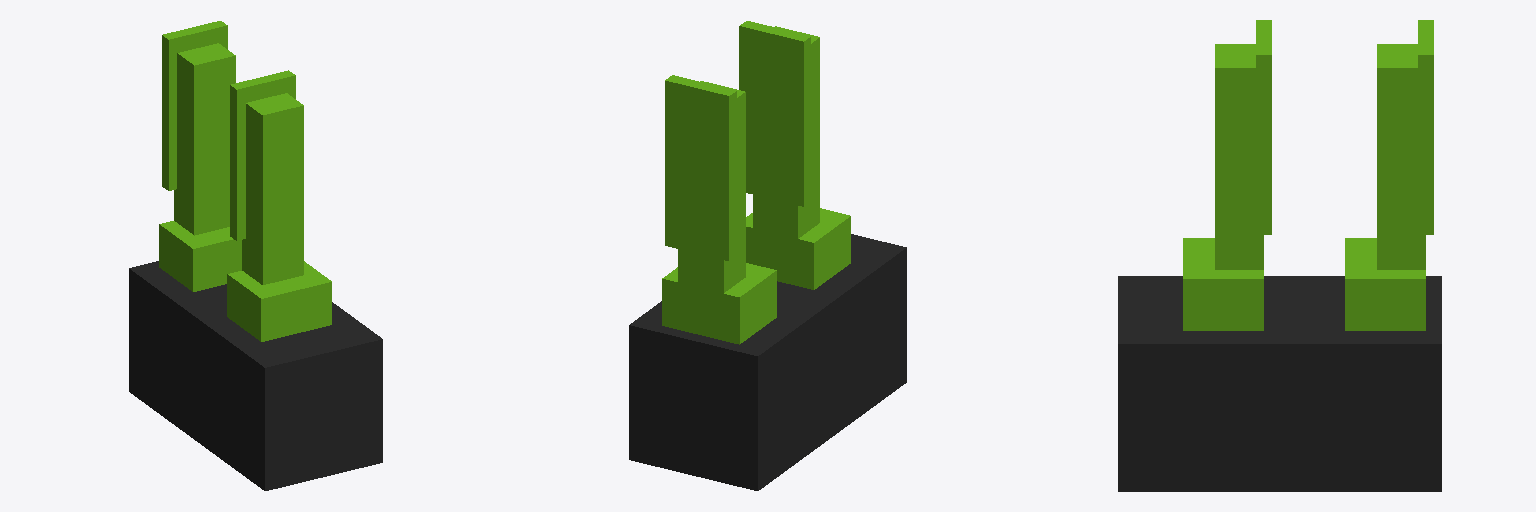
URDF robot description (enpire_robotiq_gripper):
<?xml version="1.0" encoding="utf-8"?>
<robot name="enpire_robotiq_gripper">
  <!-- Gripper Base -->
  <link name="gripper_base_link">
    <inertial>
      <origin xyz="0 0 0.02" rpy="0 0 0"/>
      <mass value="0.25"/>
      <inertia ixx="0.0002" ixy="0" ixz="0" iyy="0.0002" iyz="0" izz="0.0001"/>
    </inertial>
    <visual>
      <origin xyz="0 0 0.02" rpy="0 0 0"/>
      <geometry>
        <box size="0.04 0.08 0.04"/>
      </geometry>
      <material name="dark_gray">
        <color rgba="0.2 0.2 0.2 1.0"/>
      </material>
    </visual>
    <collision>
      <origin xyz="0 0 0.02" rpy="0 0 0"/>
      <geometry>
        <box size="0.04 0.08 0.04"/>
      </geometry>
    </collision>
  </link>

  <!-- Left Finger Joint -->
  <joint name="left_finger_joint" type="prismatic">
    <origin xyz="0 0.02 0.04" rpy="0 0 0"/>
    <parent link="gripper_base_link"/>
    <child link="left_finger_link"/>
    <axis xyz="0 1 0"/>
    <limit lower="0.0" upper="0.0425" effort="50" velocity="0.2"/>
    <dynamics damping="1.0" friction="0.1"/>
  </joint>

  <!-- Left Finger Link -->
  <link name="left_finger_link">
    <inertial>
      <origin xyz="0 0.01 0.035" rpy="0 0 0"/>
      <mass value="0.05"/>
      <inertia ixx="0.00003" ixy="0" ixz="0" iyy="0.00003" iyz="0" izz="0.00001"/>
    </inertial>
    <visual>
      <origin xyz="0 0 0" rpy="0 0 0"/>
      <geometry>
        <mesh filename="../stl/robotiq_2f85_2f140/robotiq_enpire_bracket_left.stl" scale="0.001 0.001 0.001"/>
      </geometry>
      <material name="nvidia_green">
        <color rgba="0.45 0.75 0.15 1.0"/>
      </material>
    </visual>
    <collision>
      <origin xyz="0 0 0" rpy="0 0 0"/>
      <geometry>
        <mesh filename="../stl/robotiq_2f85_2f140/robotiq_enpire_bracket_left.stl" scale="0.001 0.001 0.001"/>
      </geometry>
    </collision>
  </link>

  <!-- Right Finger Joint -->
  <joint name="right_finger_joint" type="prismatic">
    <origin xyz="0 -0.02 0.04" rpy="0 0 0"/>
    <parent link="gripper_base_link"/>
    <child link="right_finger_link"/>
    <axis xyz="0 -1 0"/>
    <limit lower="0.0" upper="0.0425" effort="50" velocity="0.2"/>
    <dynamics damping="1.0" friction="0.1"/>
    <mimic joint="left_finger_joint" multiplier="1.0" offset="0.0"/>
  </joint>

  <!-- Right Finger Link -->
  <link name="right_finger_link">
    <inertial>
      <origin xyz="0 -0.01 0.035" rpy="0 0 0"/>
      <mass value="0.05"/>
      <inertia ixx="0.00003" ixy="0" ixz="0" iyy="0.00003" iyz="0" izz="0.00001"/>
    </inertial>
    <visual>
      <origin xyz="0 0 0" rpy="0 0 0"/>
      <geometry>
        <mesh filename="../stl/robotiq_2f85_2f140/robotiq_enpire_bracket_right.stl" scale="0.001 0.001 0.001"/>
      </geometry>
      <material name="nvidia_green">
        <color rgba="0.45 0.75 0.15 1.0"/>
      </material>
    </visual>
    <collision>
      <origin xyz="0 0 0" rpy="0 0 0"/>
      <geometry>
        <mesh filename="../stl/robotiq_2f85_2f140/robotiq_enpire_bracket_right.stl" scale="0.001 0.001 0.001"/>
      </geometry>
    </collision>
  </link>

  <!-- Tool Center Point (TCP) Frame -->
  <joint name="tcp_joint" type="fixed">
    <origin xyz="0 0 0.075" rpy="0 0 0"/>
    <parent link="gripper_base_link"/>
    <child link="tcp_link"/>
  </joint>
  <link name="tcp_link"/>
</robot>

--- Render facts (derived) ---
Views: 3 orthographic renders of the robot side by side, from view 1: azimuth 30°, elevation 25°; view 2: azimuth 150°, elevation 25°; view 3: azimuth 270°, elevation 25°.
Robot: enpire_robotiq_gripper — 4 links, 3 joints (2 prismatic, 1 fixed); root link gripper_base_link; default pose: all joints at 0.
Links seen in each view (by area): view 1: gripper_base_link, right_finger_link, left_finger_link; view 2: gripper_base_link, left_finger_link, right_finger_link; view 3: gripper_base_link, left_finger_link, right_finger_link.
Boxes of the visible links, x1,y1,x2,y2 form: gripper_base_link: (129,261,382,490); right_finger_link: (227,70,331,341); left_finger_link: (159,21,241,291); gripper_base_link: (629,234,906,490); left_finger_link: (662,75,776,344); right_finger_link: (739,21,850,289); gripper_base_link: (1118,276,1441,491); left_finger_link: (1345,20,1433,330); right_finger_link: (1183,20,1271,330).
Size in the robot's own frame: 0.04 by 0.08 by 0.114 metres.
Meshes: 2 distinct files referenced, 2 mesh visuals loaded (2 binary STL).
